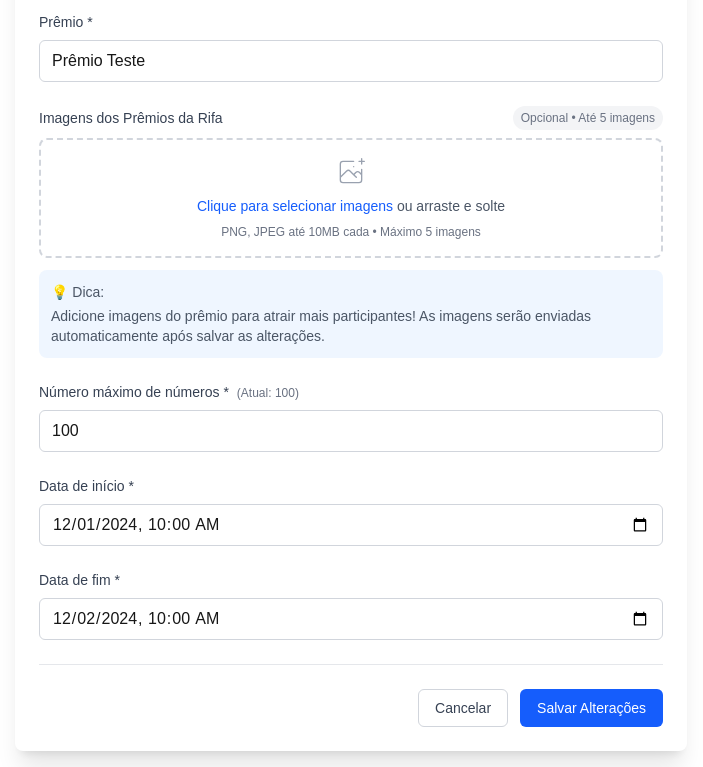
RaffleEditModal › deve mostrar erro quando atualização falha
(page scrolled)
Click the button "Salvar Alterações".
click(592, 708)  # box x1=520 y1=689 x2=663 y2=727
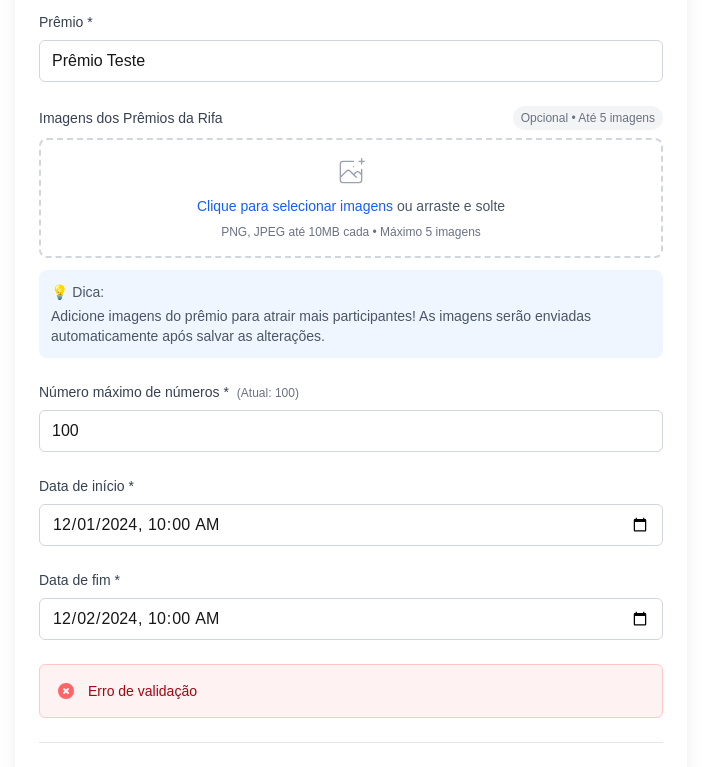
Check: the text "Erro de validação" is shown, box x1=88 y1=681 x2=197 y2=701
